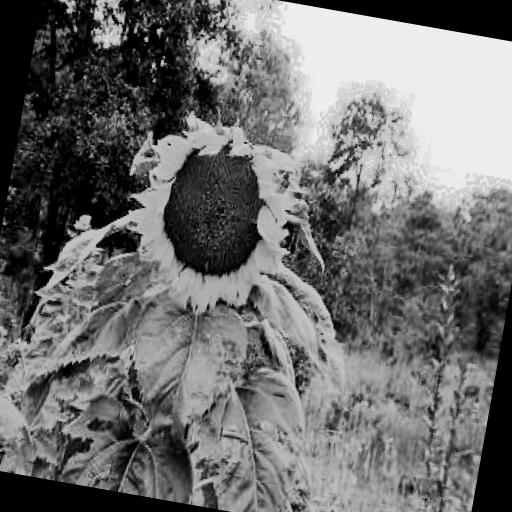sunflower: (122, 114, 304, 320)
